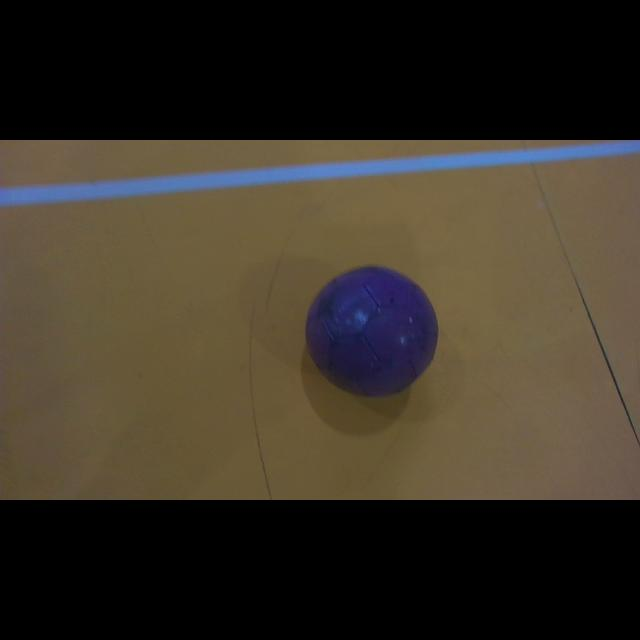P: (305, 266, 438, 396)
